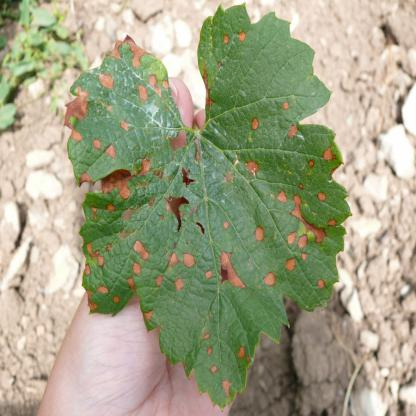grape leaf black rot: (70, 2, 348, 402)
